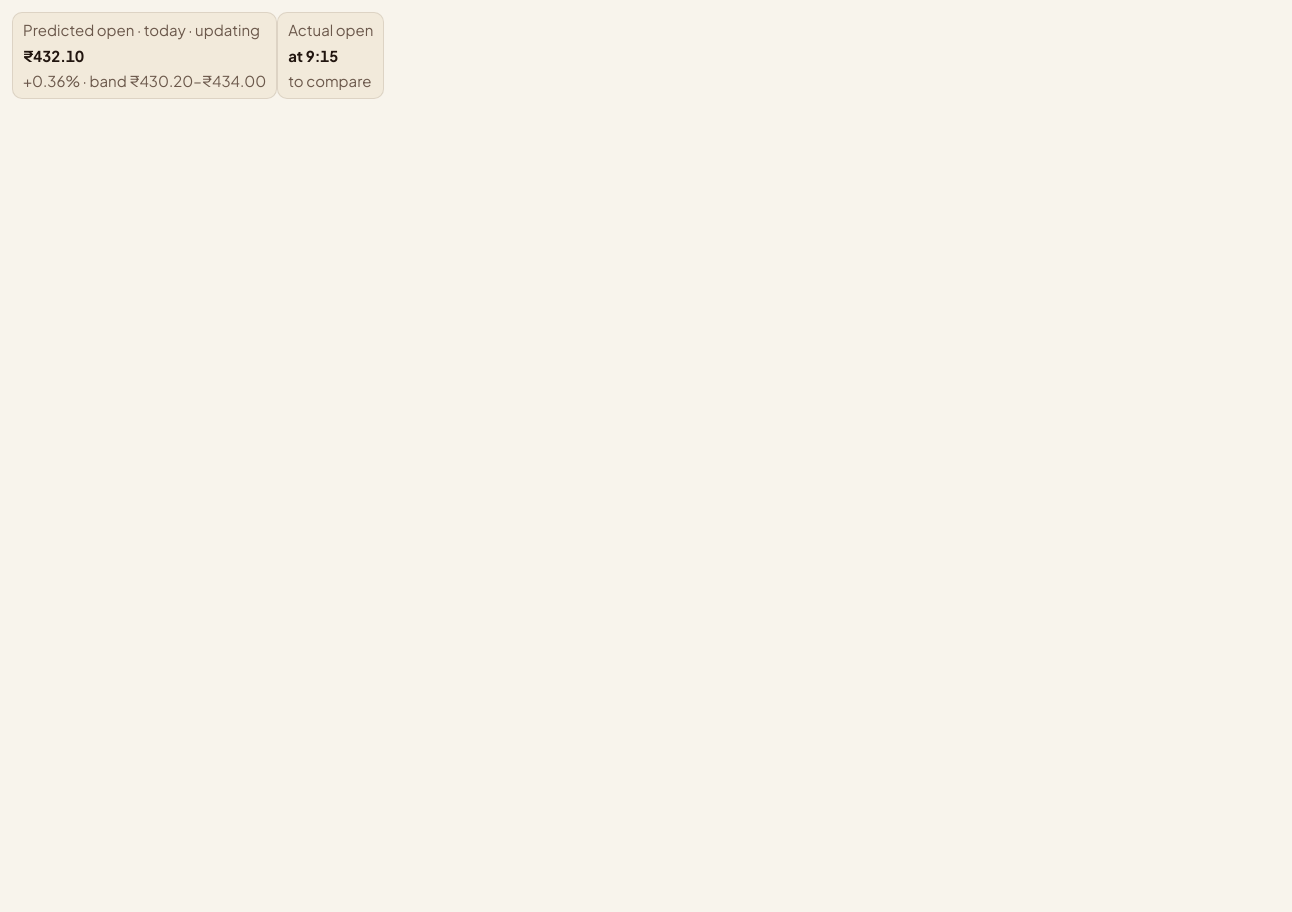
Test: the working: every estimate with its weight, the index cue, the stock's sensitivity, the soft evidence and the history test
The width and height of the screenshot is (1292, 912).
What coordinates should you click on to do the following:
click the button with aria-label "Show the opening-price forecast"
I would click on:
 (145, 55)
Its box is [12, 12, 277, 98].
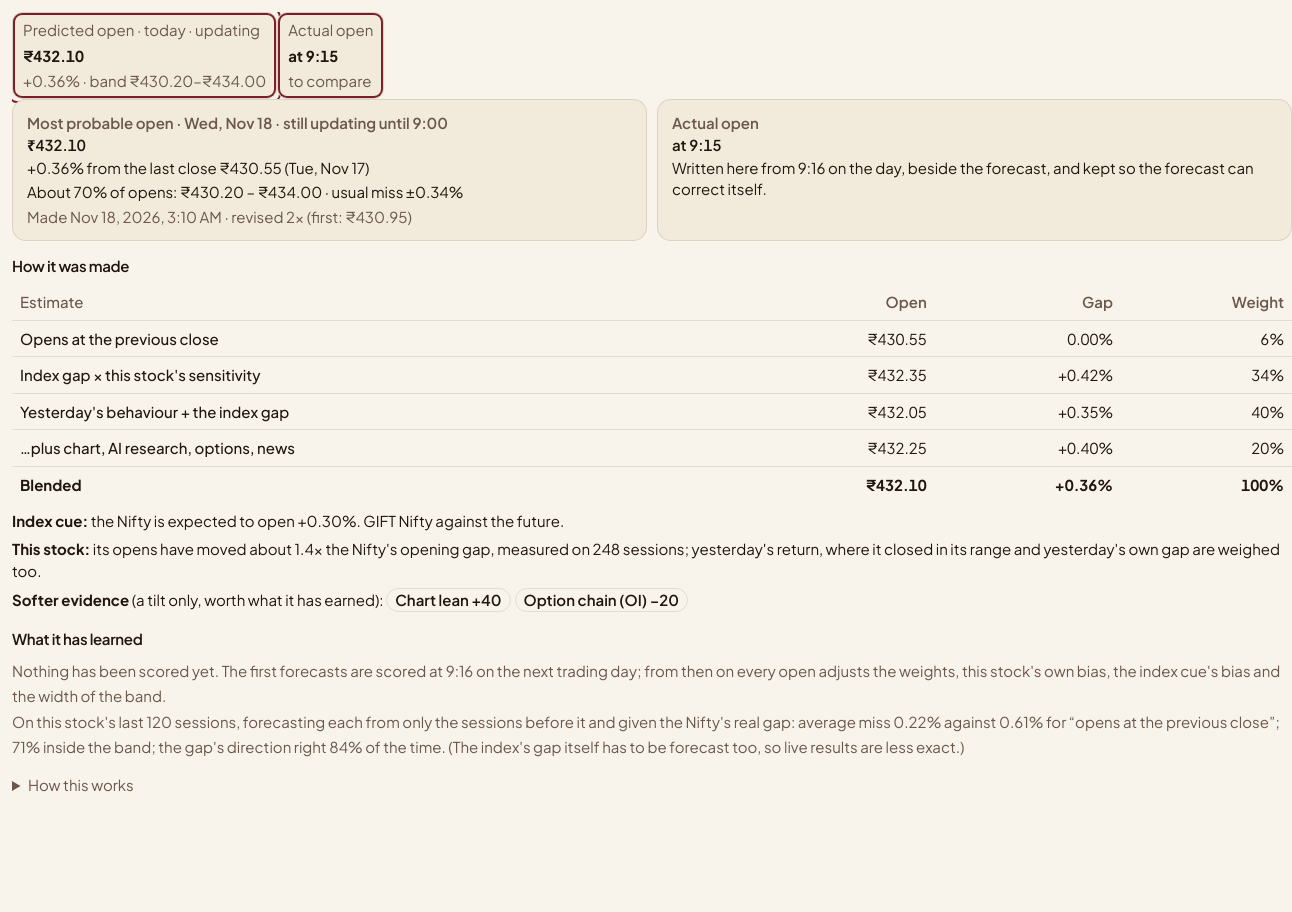
Expected: the heading "How it was made" is shown, [12, 256, 129, 275]
Expected: the column heading "Opens at the previous close" is shown, [12, 320, 742, 357]
Expected: the column heading "Index gap × this stock's sensitivity" is shown, [12, 357, 742, 393]
